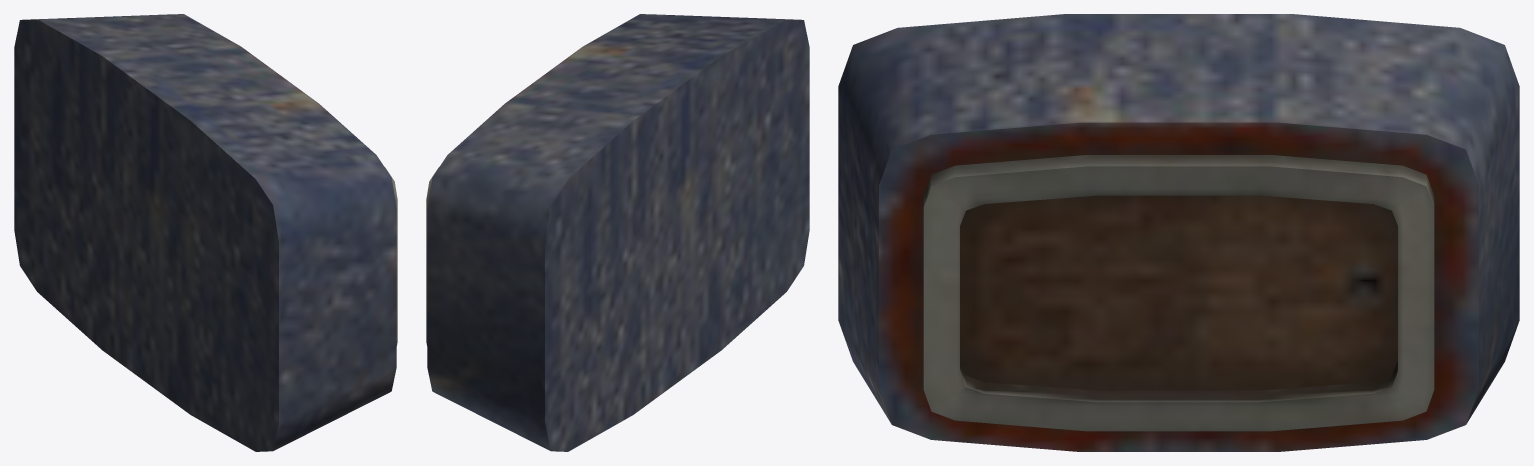
Rendered from MountedSpeaker.FBX.
3 views of the same model, side by side, from view 1: azimuth 30°, elevation 25°; view 2: azimuth 150°, elevation 25°; view 3: azimuth 270°, elevation 25° (orthographic). The views are drawn at different scales.
Parts seen in each view (by area): view 1: MountedSpeaker; view 2: MountedSpeaker; view 3: MountedSpeaker.
Boxes of the visible parts, x1=… form: MountedSpeaker: x1=14, y1=14, x2=397, y2=451; MountedSpeaker: x1=426, y1=14, x2=809, y2=451; MountedSpeaker: x1=838, y1=14, x2=1519, y2=451.
Size of the model in its own units: 13.27 by 24.55 by 40.02.
